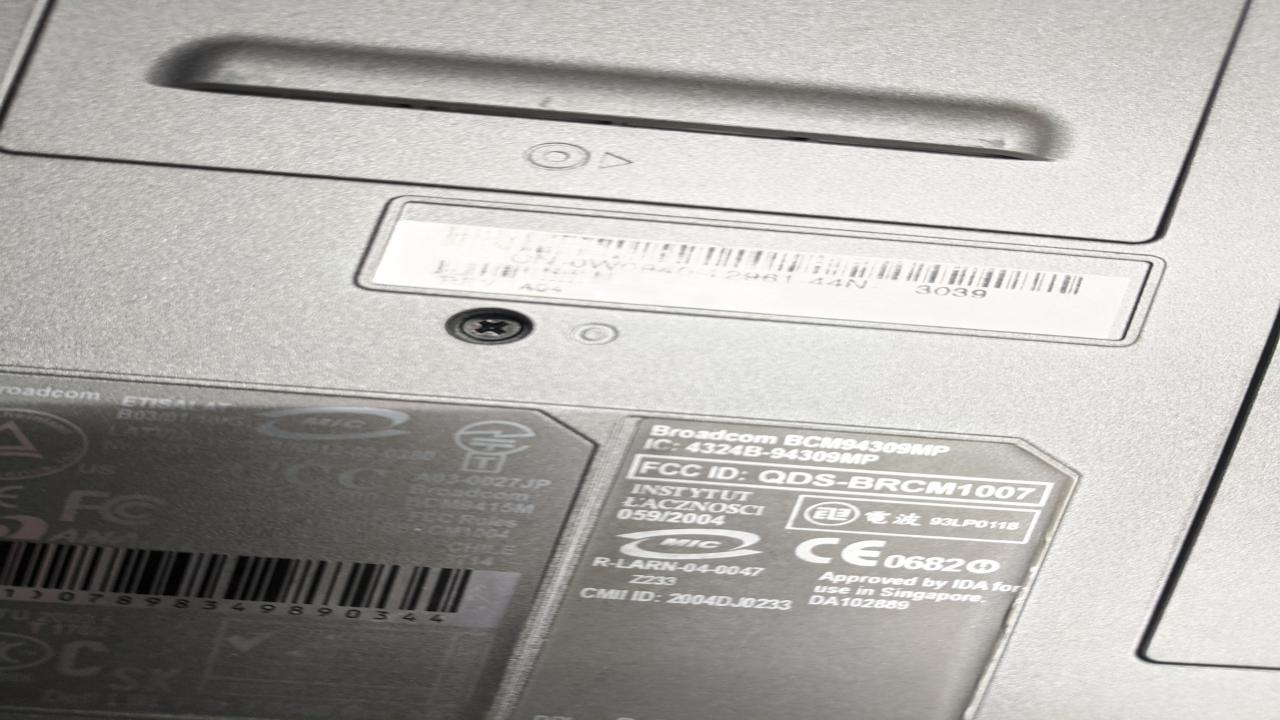CRS: (454, 310, 530, 344)
